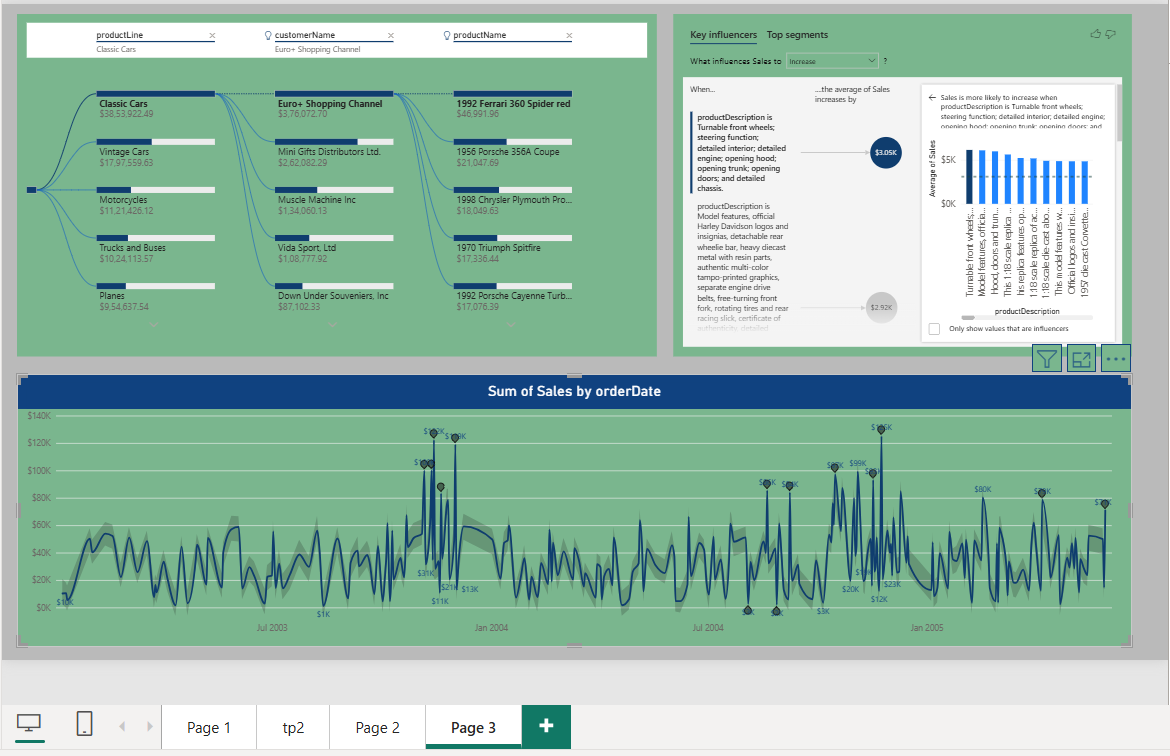

What the dashboard file says about the page in this screenshot:
{"tool":"powerbi","page":{"name":"Page 3","canvas":[1920,1080],"ordinal":3},"visuals":[{"type":"decompositionTreeVisual","fields":{"Analyze":["Sum(order_details.Sales)"],"ExplainBy":["products.productLine","customers.customerName","products.productName"]},"box":[24.7,16.5,1053.9,564],"z":0},{"type":"keyDriversVisual","fields":{"ExplainBy":["products.productDescription"],"Target":["order_details.Sales"]},"box":[1105.3,16.5,755.4,564],"z":1000},{"type":"lineChart","fields":{"Category":["orders.orderDate"],"Y":["Sum(order_details.Sales)"]},"box":[24.7,609.3,1836,448.7],"z":2000}]}

Visuals, with their boxes on the page's 1920x1080 design canvas (x1, y1, x2, y2). These are canvas units, not pixel positions in the 1170x756 screenshot, which may show the page scaled, cropped or inside an application window:
decompositionTreeVisual - Sum(order_details.Sales) x products.productLine: (left=25, top=16, right=1079, bottom=580)
keyDriversVisual - products.productDescription x order_details.Sales: (left=1105, top=16, right=1861, bottom=580)
lineChart - orders.orderDate x Sum(order_details.Sales): (left=25, top=609, right=1861, bottom=1058)
